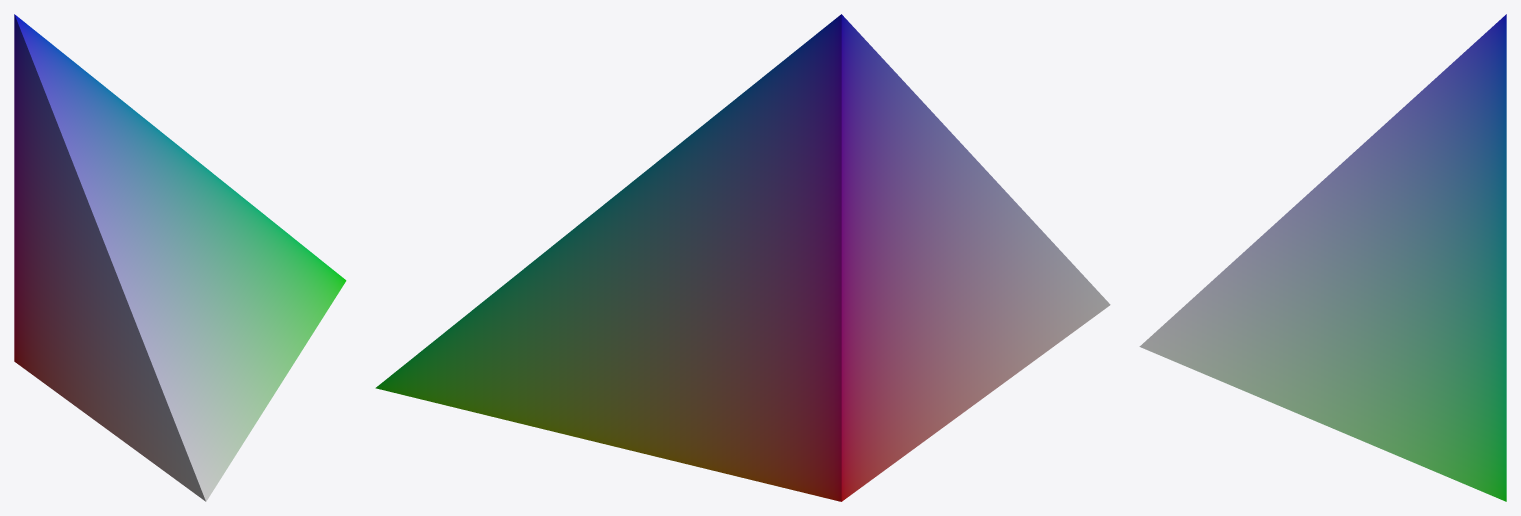
Rendered from tetra.glb.
3 views of the same model, side by side, from view 1: azimuth 30°, elevation 25°; view 2: azimuth 150°, elevation 25°; view 3: azimuth 270°, elevation 25° (orthographic). The views are drawn at different scales.
Visible parts, largest first — view 1: tetra; view 2: tetra; view 3: tetra.
Boxes of the visible parts, x1=… form: tetra: x1=14, y1=14, x2=346, y2=501; tetra: x1=375, y1=14, x2=1110, y2=501; tetra: x1=1139, y1=14, x2=1506, y2=501.
Bounding box in the file's own units: 30 × 30 × 30.
